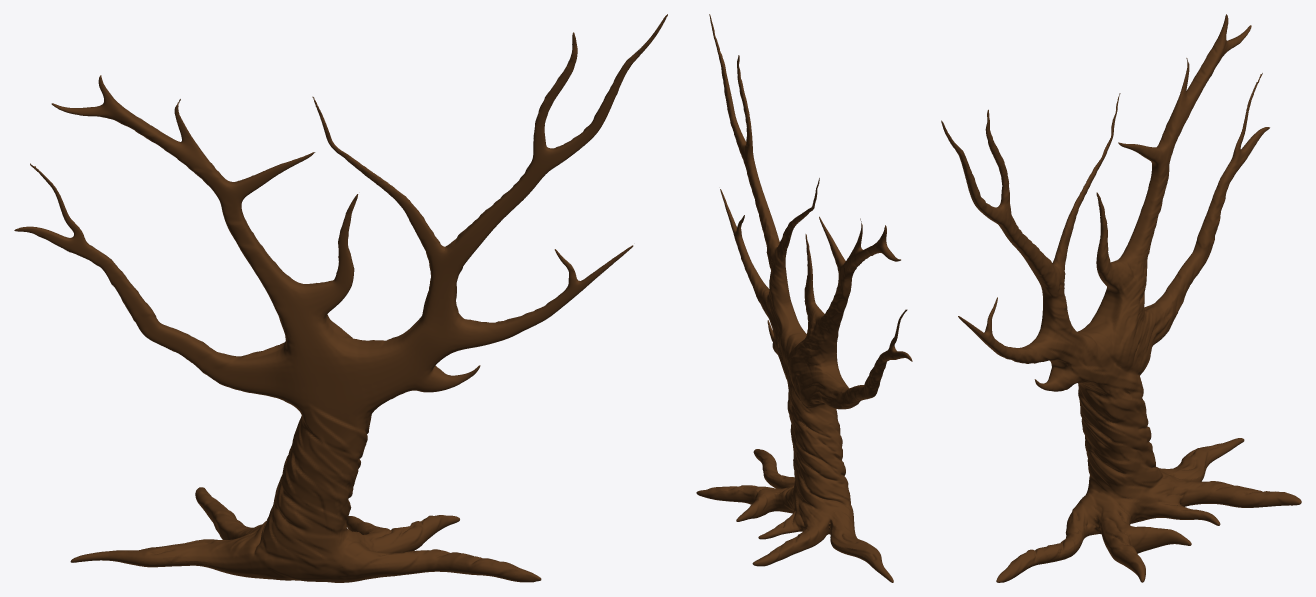
The model's file is Suche_drzewo.fbx.
3 views of the same model, side by side, from view 1: azimuth 30°, elevation 25°; view 2: azimuth 150°, elevation 25°; view 3: azimuth 270°, elevation 25° (orthographic). The views are drawn at different scales.
Visible parts, largest first — view 1: DrzewoXX; view 2: DrzewoXX; view 3: DrzewoXX.
Part boxes in pixels (<box>): DrzewoXX: <box>14,14,667,582</box>; DrzewoXX: <box>696,14,912,582</box>; DrzewoXX: <box>941,14,1301,582</box>.
Bounding box in the file's own units: 3.02 × 3.56 × 2.26.
